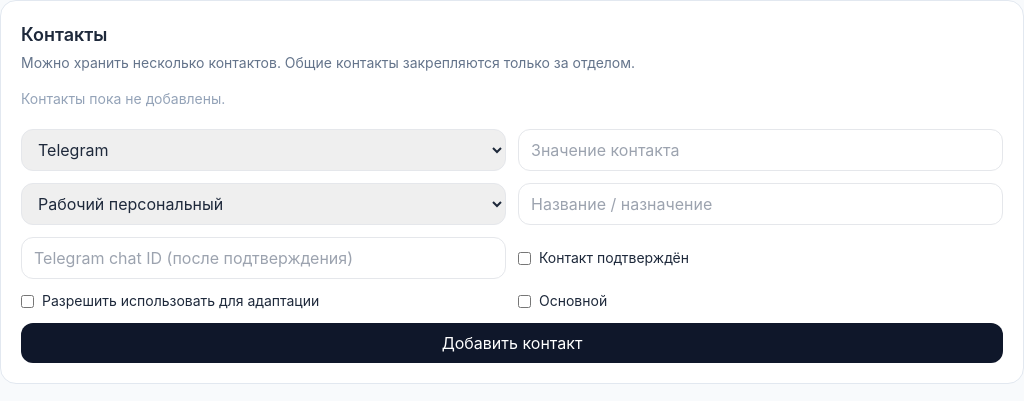
Test case: ContactEditor › clears telegram-only flags when contact type changes
In the field with placeholder "Telegram chat ID (после подтверждения)": point(264, 258) [21, 237, 506, 279], type "12345"
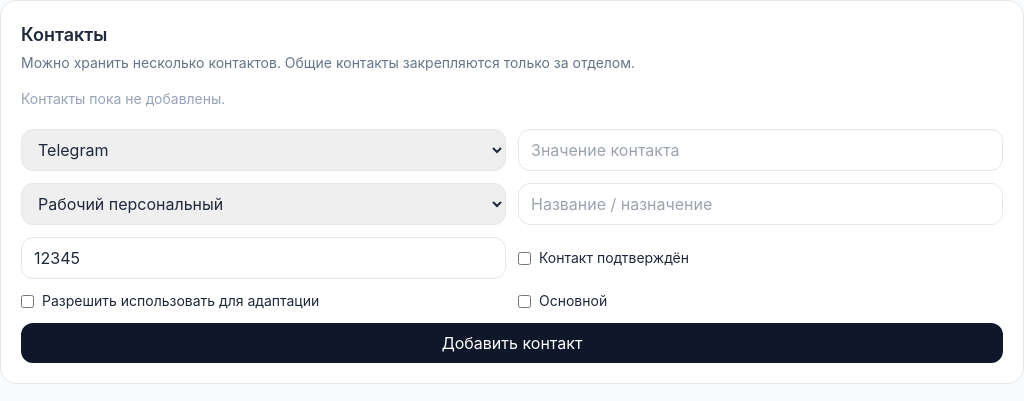
Click the checkbox labelled "Контакт подтверждён": point(524, 258) [518, 252, 531, 264]
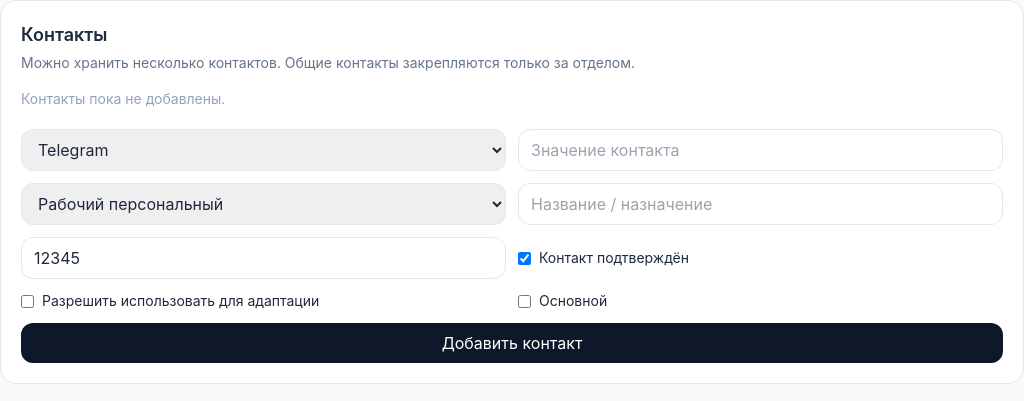
Select "Email" in the 1st dropdown: point(264, 150) [21, 129, 506, 171]
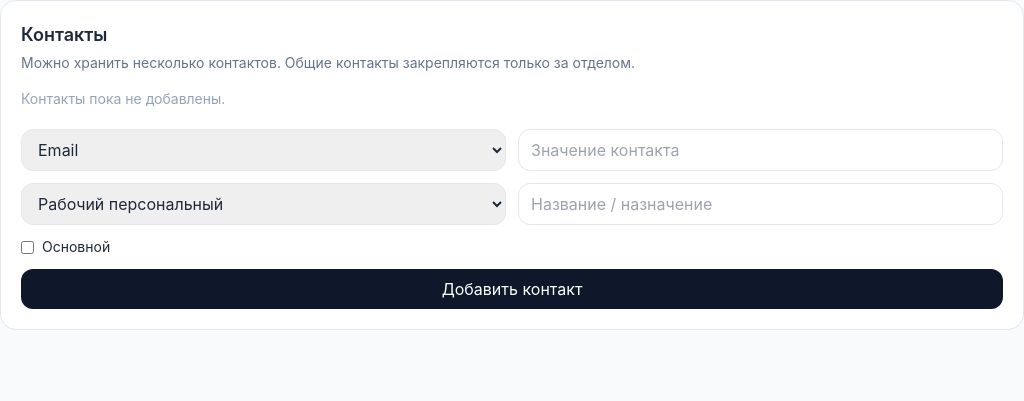
Select "Telegram" in the 1st dropdown: point(264, 150) [21, 129, 506, 171]
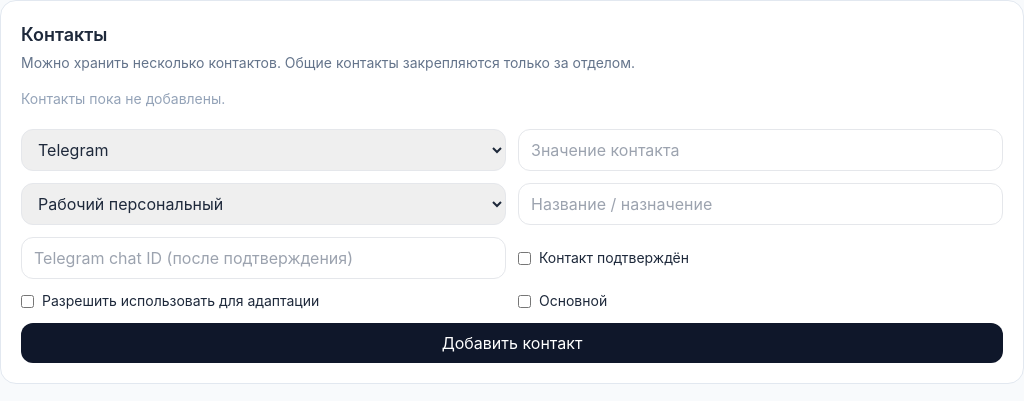
Result: the field with placeholder "Telegram chat ID (после подтверждения)" is empty at [21, 237, 506, 279]
Result: the checkbox labelled "Контакт подтверждён" is not checked at [518, 252, 531, 264]
